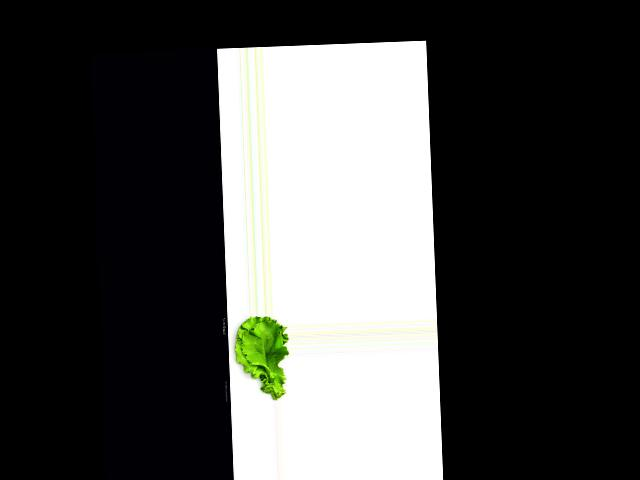lettuce: (229, 315, 291, 399)
